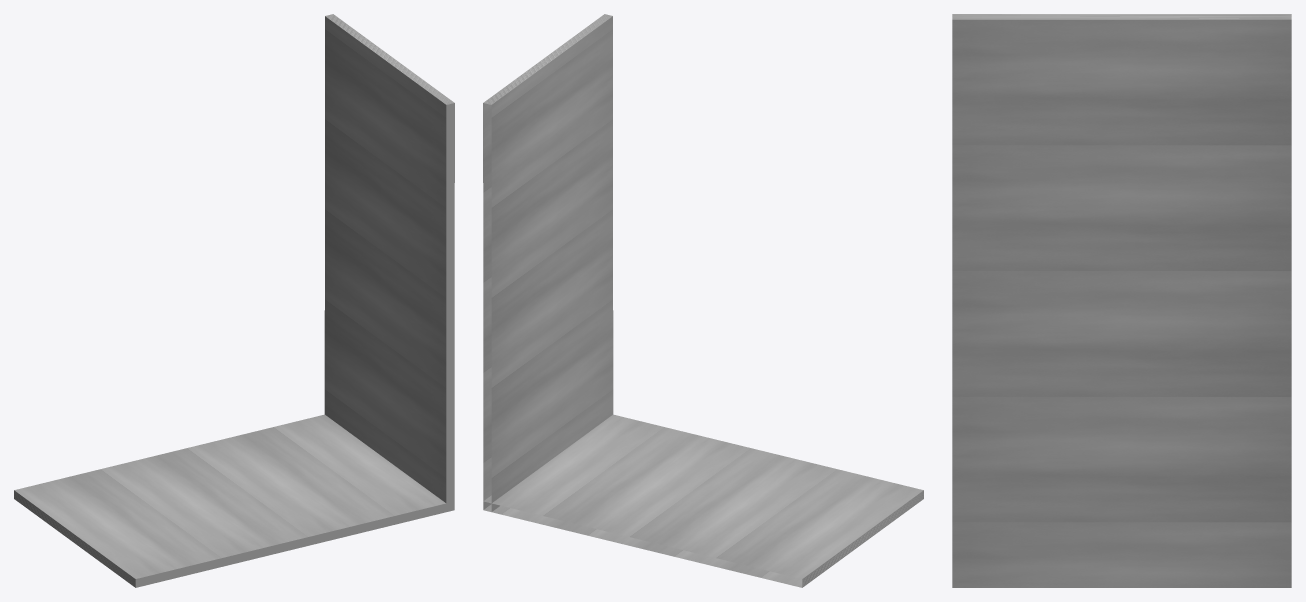
Rendered from wall_4.obj.
The picture shows the model from 3 angles, left to right: view 1: azimuth 30°, elevation 25°; view 2: azimuth 150°, elevation 25°; view 3: azimuth 270°, elevation 25°; orthographic projection. The views are drawn at different scales.
Visible parts, largest first — view 1: walls; view 2: walls; view 3: walls.
Boxes of the visible parts, <box> form: walls: <box>14,14,454,587</box>; walls: <box>483,14,923,587</box>; walls: <box>952,14,1291,587</box>.
Bounding box in the file's own units: 3.79 × 4.62 × 2.5.
Materials: 1 (1 with a texture image).
